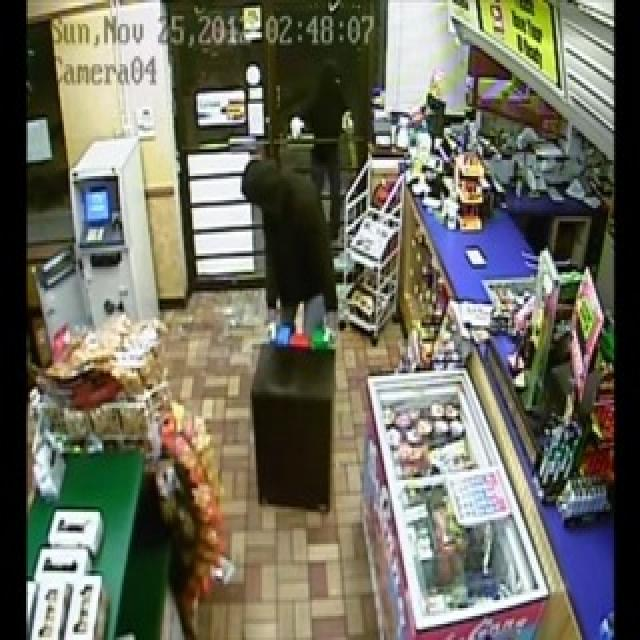thief: (238, 158, 352, 348)
